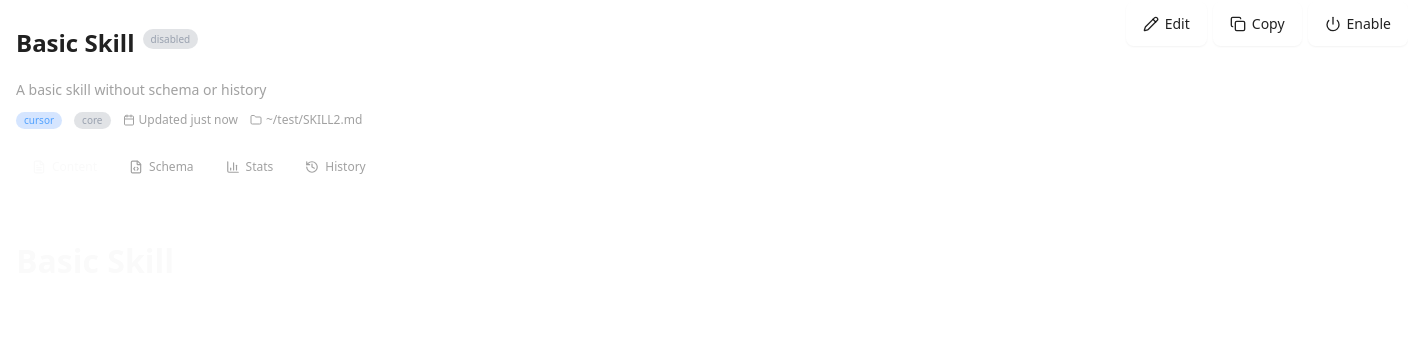
Test: SkillDetail › should show empty state on schema tab when no schema
What coordinates should you click on to do the following:
click the tab "Schema"
I would click on:
 (161, 168)
Its box is [113,146,210,190].
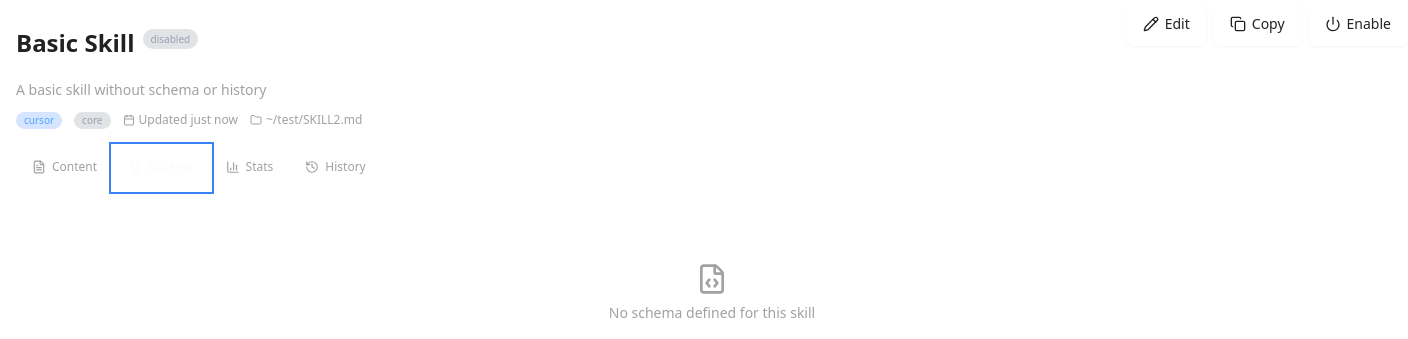
Expected: the text "No schema defined for this skill" is shown, [609,303,815,323]
